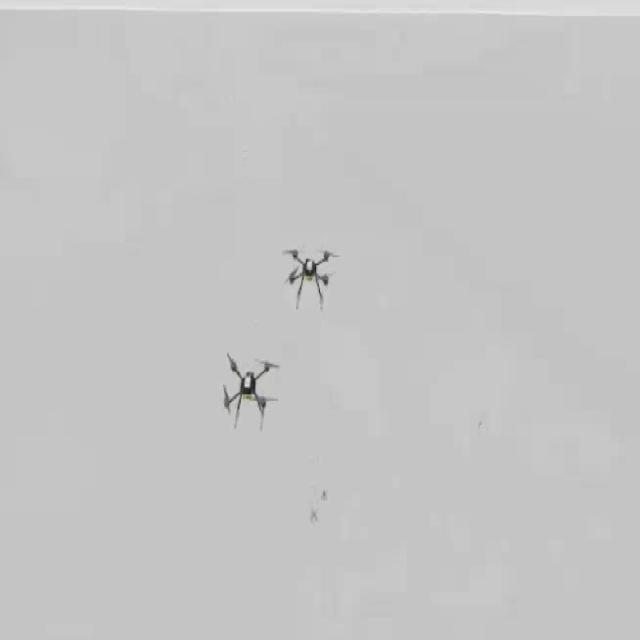drone: (219, 348, 282, 428), (282, 240, 338, 312)
